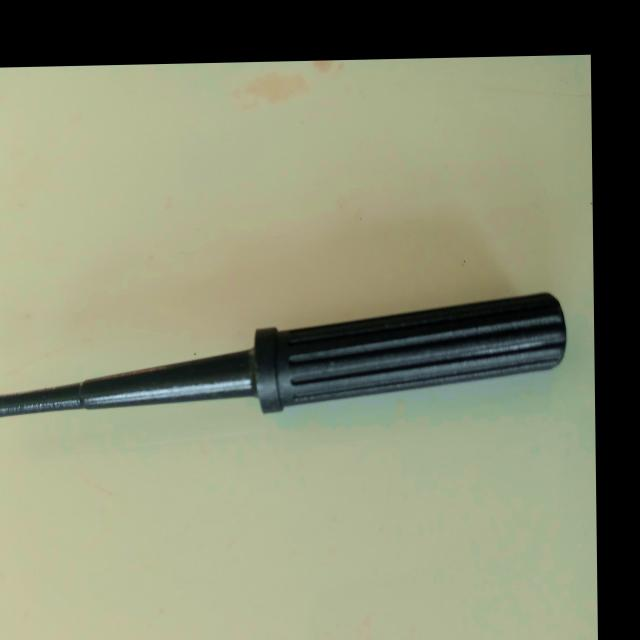Screw Driver: (0, 282, 579, 440)
